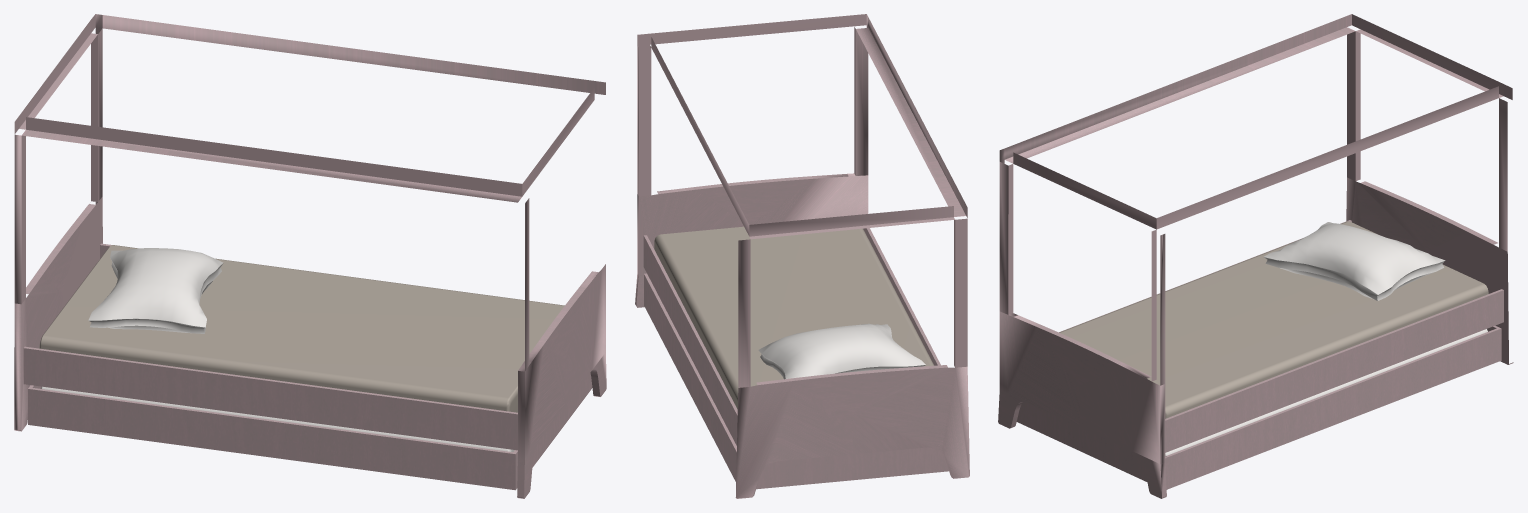
Rendered from vintage-bed_verticale_rot.gltf.
The picture shows the model from 3 angles, left to right: view 1: azimuth 30°, elevation 25°; view 2: azimuth 150°, elevation 25°; view 3: azimuth 270°, elevation 25°; orthographic projection. The views are drawn at different scales.
Parts seen in each view (by area): view 1: bed-structure, bed-mattress, divan, pillow, divan-mattress; view 2: bed-structure, bed-mattress, divan, pillow; view 3: bed-structure, bed-mattress, divan, pillow, divan-mattress.
Boxes of the visible parts, <box> form: bed-structure: <box>14,14,606,498</box>; bed-mattress: <box>39,245,564,412</box>; divan: <box>28,373,592,490</box>; pillow: <box>88,248,223,333</box>; divan-mattress: <box>41,386,514,451</box>; bed-structure: <box>635,14,969,498</box>; bed-mattress: <box>654,226,933,408</box>; divan: <box>644,273,948,489</box>; pillow: <box>758,323,925,379</box>; bed-structure: <box>998,14,1513,498</box>; bed-mattress: <box>1059,221,1488,418</box>; divan: <box>1016,325,1501,489</box>; pillow: <box>1264,222,1445,300</box>; divan-mattress: <box>1165,329,1487,455</box>.
Size of the model in its own units: 212 by 128 by 218.
Materials: 7 (2 with a texture image).
